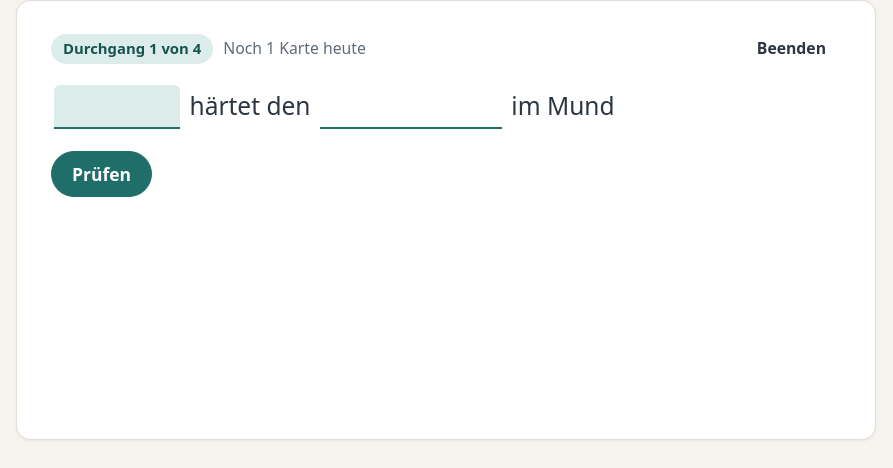
Test: review session › accepts the right words typed into swapped gaps
In the field named "Deine Antwort für Lücke 1": (117, 107) [54,85,180,129], type "Zahnschmelz"
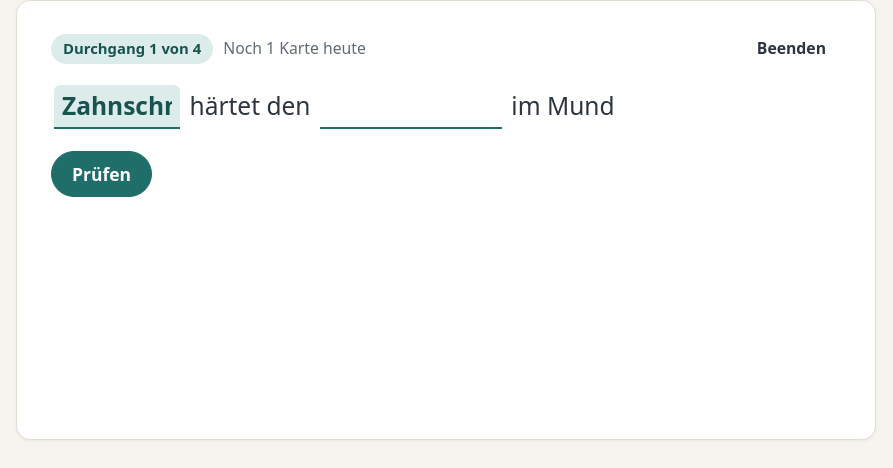
In the field named "Deine Antwort für Lücke 2": (411, 107) [320,85,502,129], type "Fluorid"
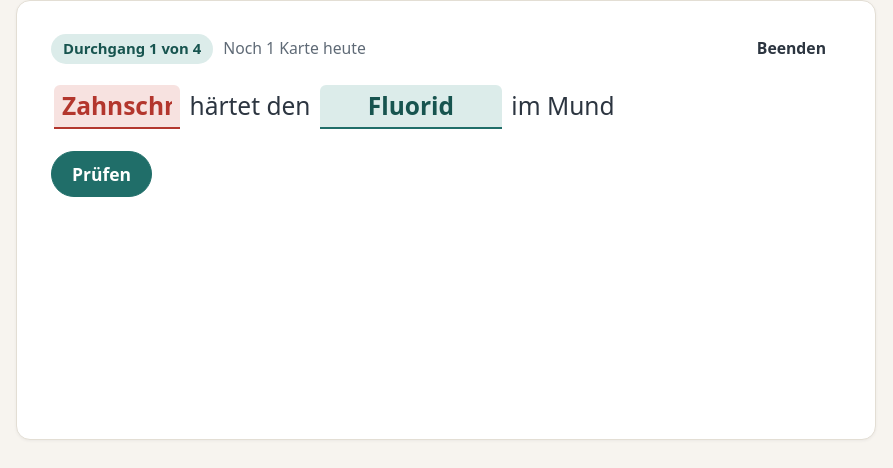
Click the button "Prüfen": click(102, 174) [51,151,152,197]
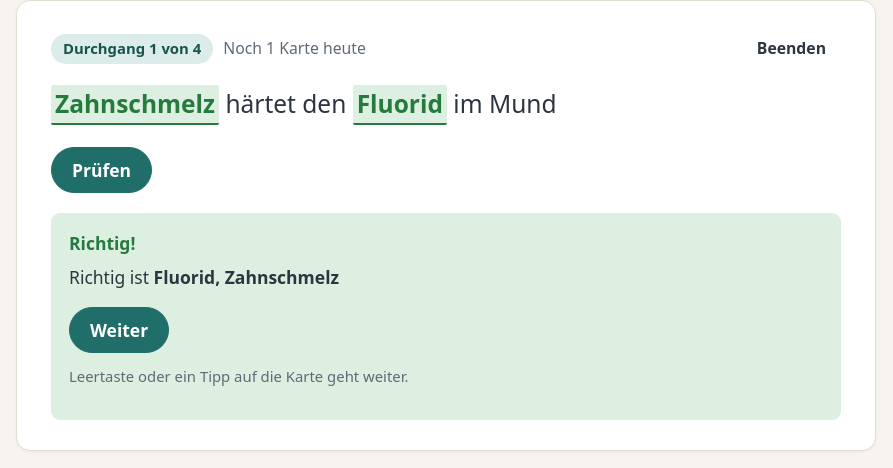
Result: the text "Richtig!" is shown at [69,231,135,255]
